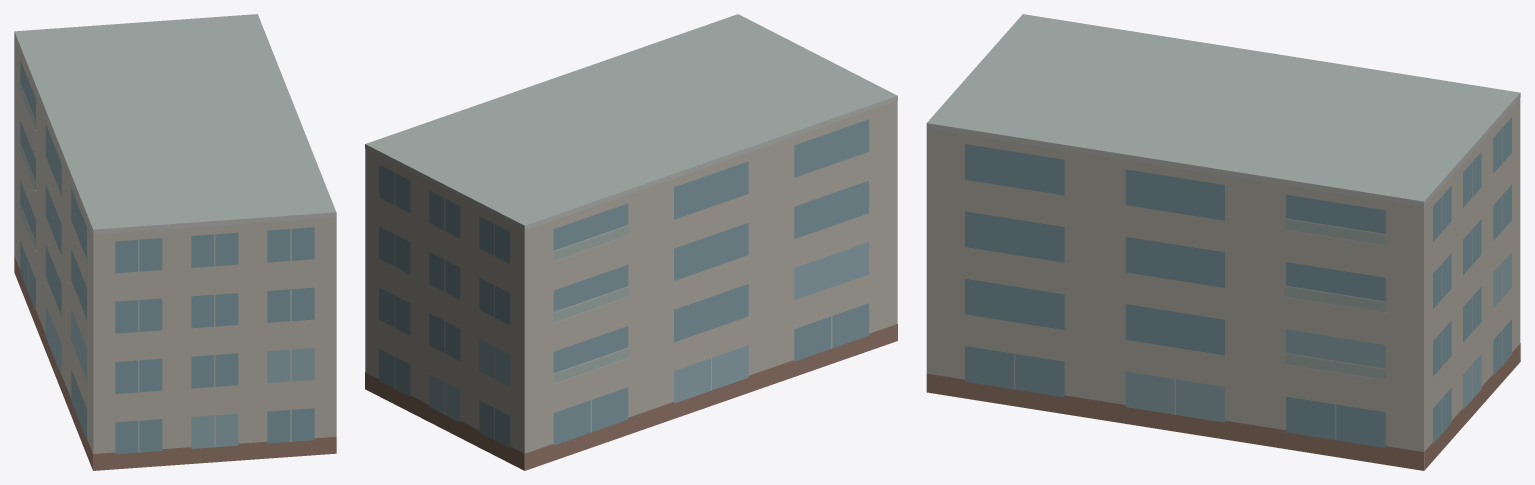
File: residential-2076c0a2-5259-496f-8c54-1e57be896051.glb
The picture shows the model from 3 angles, left to right: view 1: azimuth 30°, elevation 25°; view 2: azimuth 150°, elevation 25°; view 3: azimuth 270°, elevation 25°; orthographic projection. The views are drawn at different scales.
Parts seen in each view (by area): view 1: residential-2076c0a2-5259-496f-8c54-1e57be896051.tmp; view 2: residential-2076c0a2-5259-496f-8c54-1e57be896051.tmp; view 3: residential-2076c0a2-5259-496f-8c54-1e57be896051.tmp.
Part boxes in pixels (x1,y1,x2,y2): residential-2076c0a2-5259-496f-8c54-1e57be896051.tmp: (14,14,336,470); residential-2076c0a2-5259-496f-8c54-1e57be896051.tmp: (365,14,897,470); residential-2076c0a2-5259-496f-8c54-1e57be896051.tmp: (926,14,1520,470).
Size of the model in its own units: 18.23 by 12.2 by 24.39.
